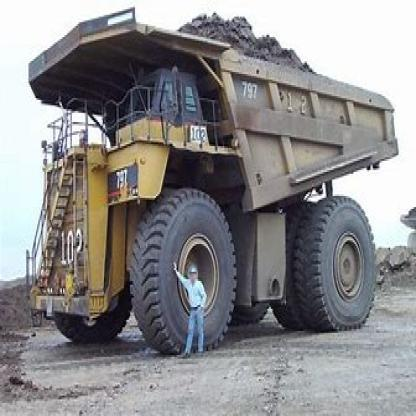dump_truck: (20, 9, 405, 353)
